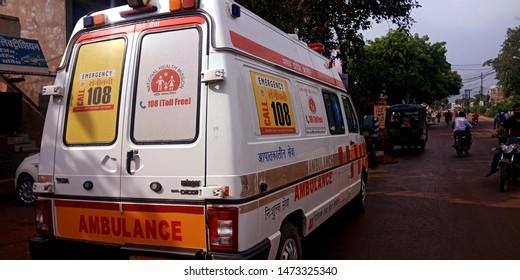ER: (35, 0, 371, 259)
